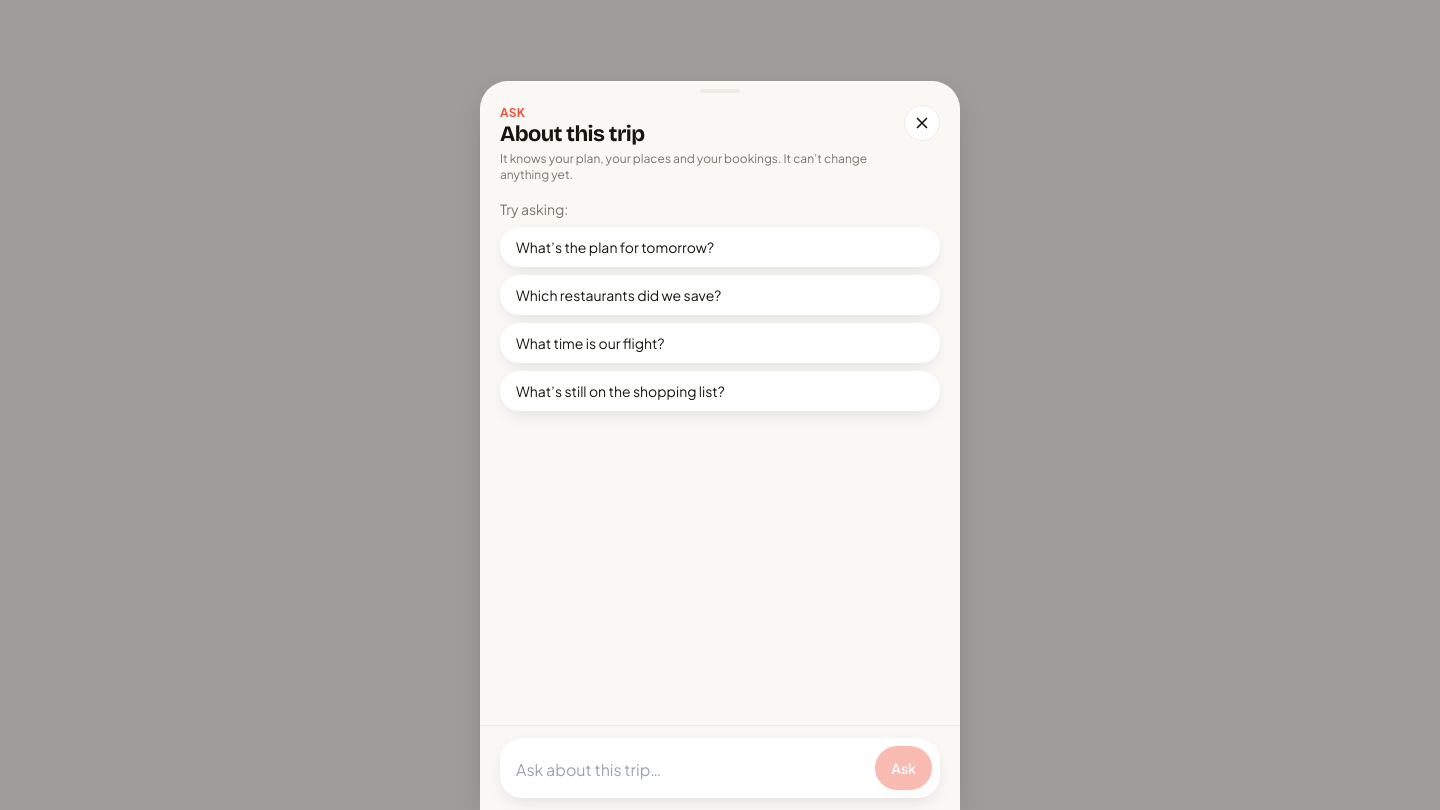
Test case: asking a question › appends the answer as it streams
In the text box labelled "Ask about this trip": (688, 770) [508,750,867,790], type "What is the plan?"
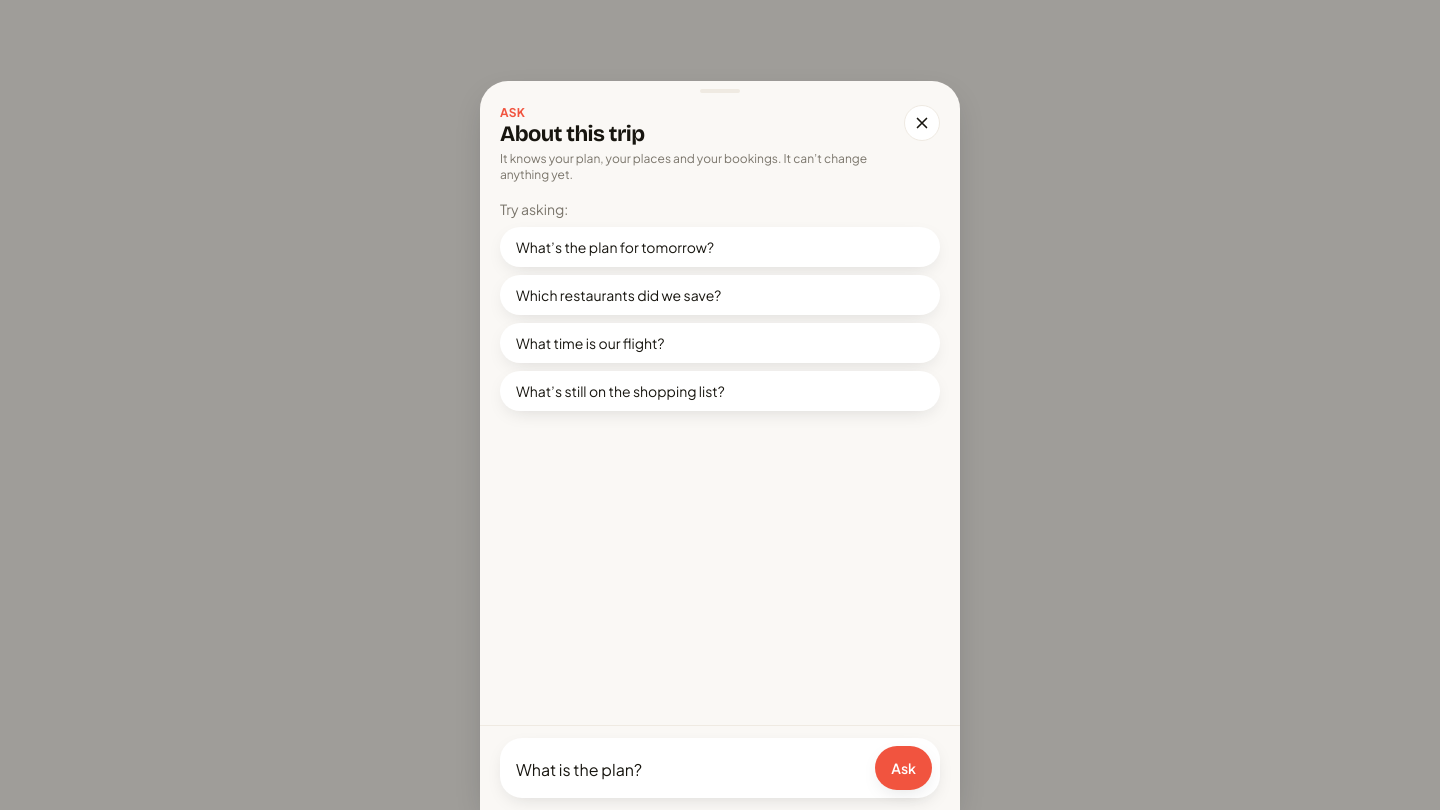
Click the button "Ask": (904, 768) [875,746,932,790]
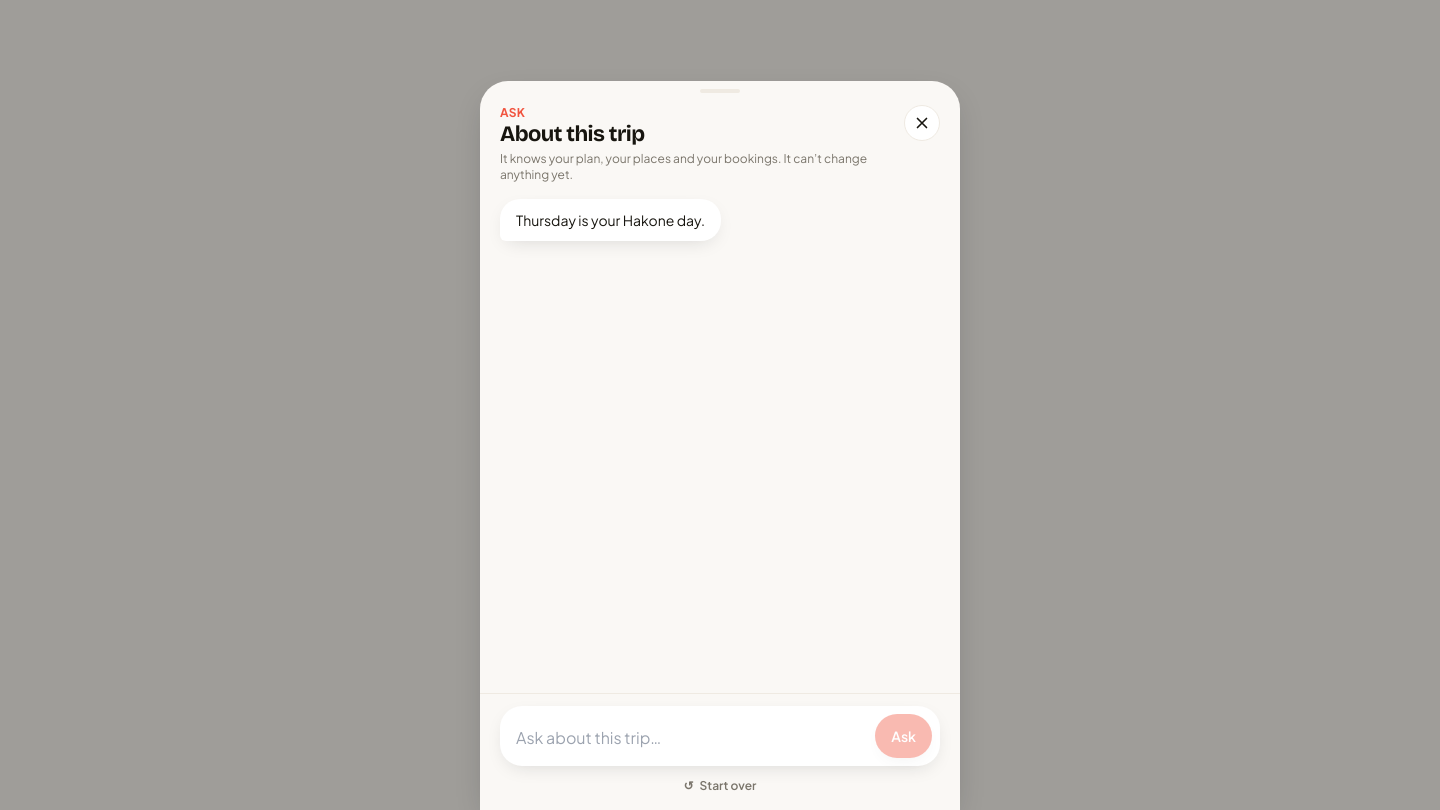
expect the text "Thursday is your Hakone day." is shown: met, box [516,208,705,231]
